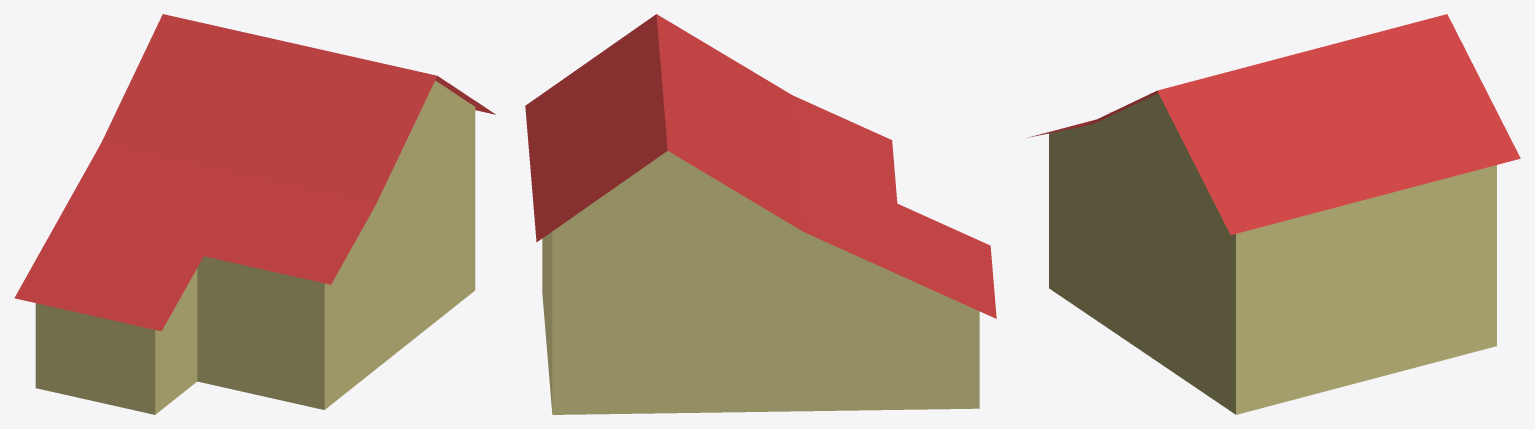
3 renders of one model, left to right at view 1: azimuth 30°, elevation 25°; view 2: azimuth 150°, elevation 25°; view 3: azimuth 270°, elevation 25°, orthographic. The views are drawn at different scales.
Bounding box in the file's own units: 25.71 × 21.46 × 13.6.
